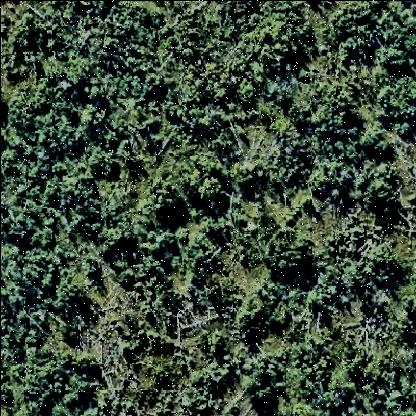tree-top: (245, 3, 305, 66), (5, 247, 61, 307), (26, 104, 88, 158), (313, 242, 375, 295), (11, 368, 78, 415), (118, 253, 165, 299), (18, 201, 63, 247), (373, 81, 416, 129), (301, 98, 349, 137), (311, 159, 352, 201), (370, 248, 410, 287), (145, 183, 183, 221), (8, 20, 42, 57), (88, 149, 123, 182), (269, 247, 303, 280), (91, 227, 131, 254), (235, 304, 267, 336), (196, 175, 228, 205), (365, 180, 397, 210), (342, 34, 372, 64), (261, 306, 289, 334), (40, 58, 67, 85), (379, 48, 408, 72), (249, 383, 276, 407), (69, 353, 97, 375), (306, 291, 327, 312), (295, 192, 315, 212), (145, 11, 165, 29), (191, 399, 212, 416), (145, 76, 164, 94), (172, 226, 190, 244), (119, 341, 138, 357), (93, 3, 111, 15)
